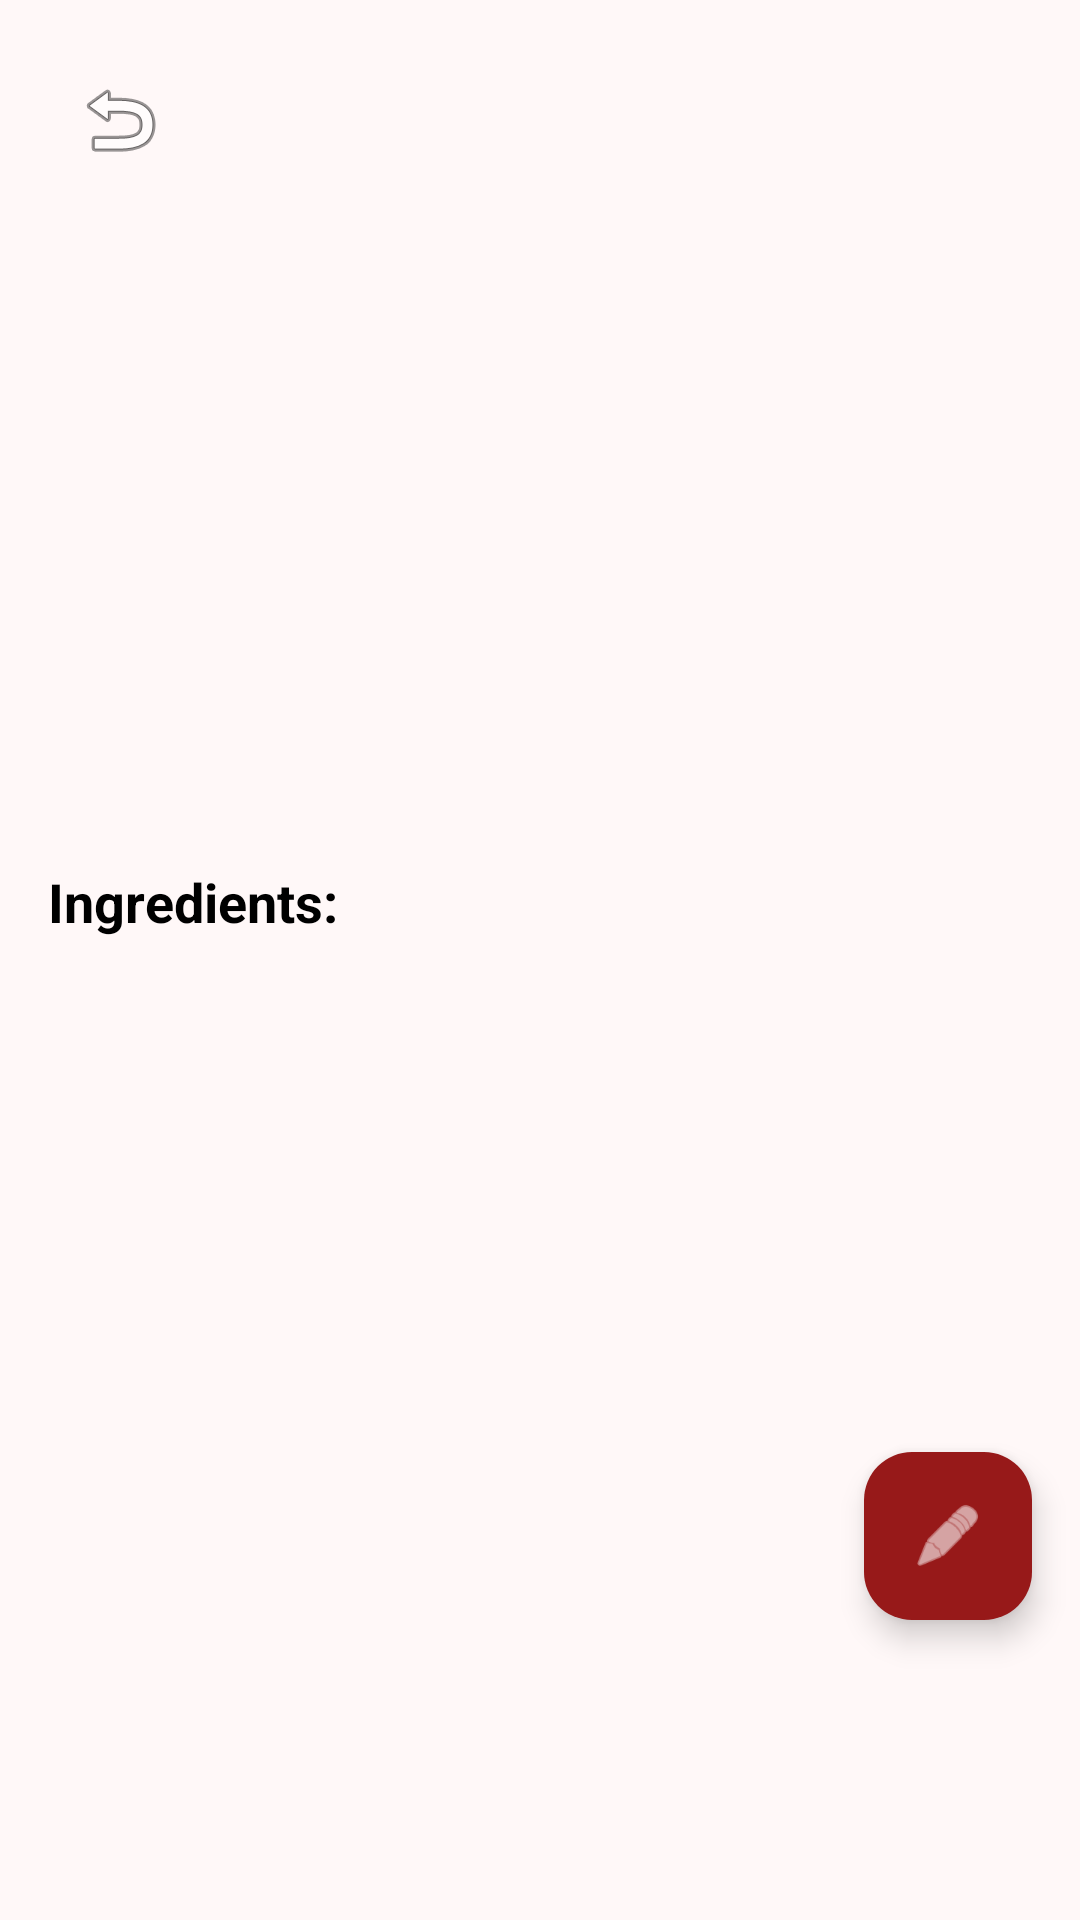

Where to tap for icons on this 1080px x 1920px app screen, as point (x, y):
Back: point (121, 120)
Modify recipe: point (948, 1536)
